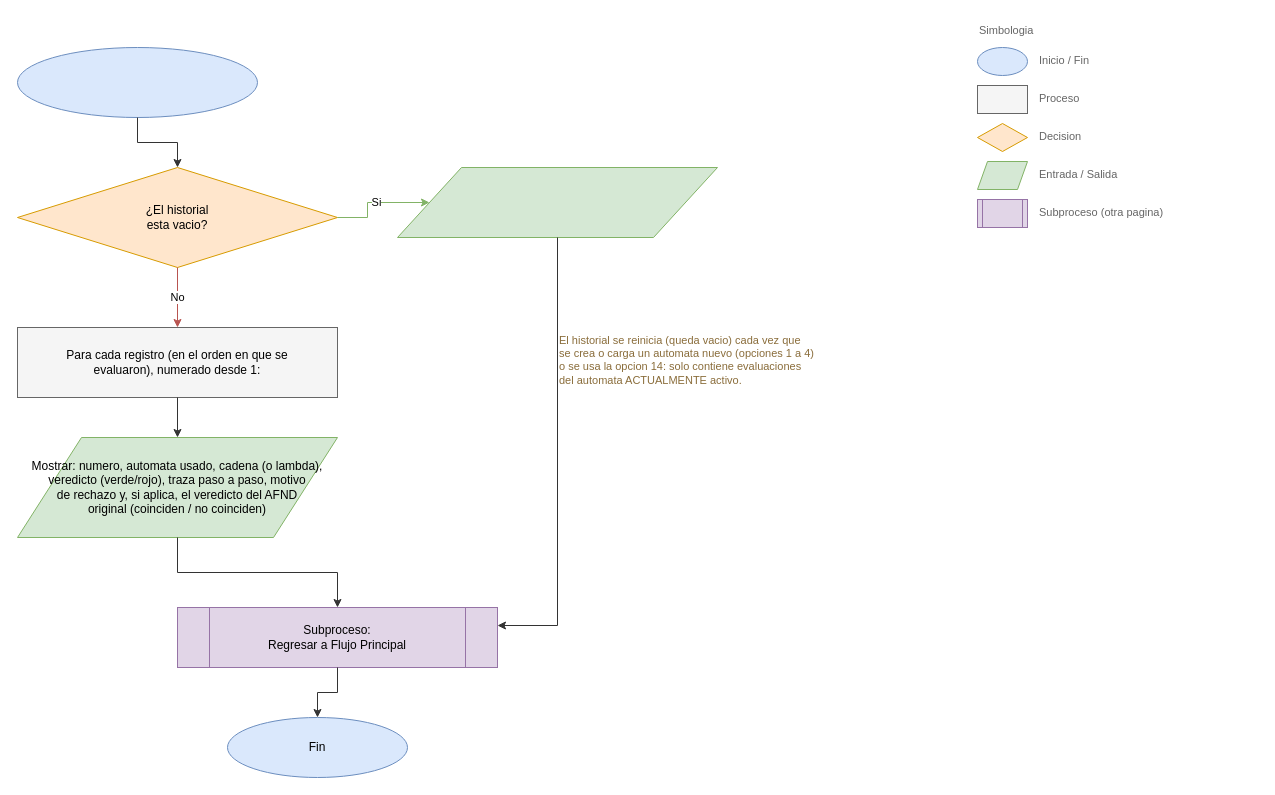
The diagram is 1275 pixels wide and 795 high, and some of its shapes have lost their labels. Here are the shapes that lost their labels. From the top down, the box of each, then its label:
(16, 46, 258, 118): Inicio: Consultar el historial de evaluaciones
(396, 166, 718, 238): Mostrar: 'Aun no se ha evaluado ninguna cadena con el automata actual'
